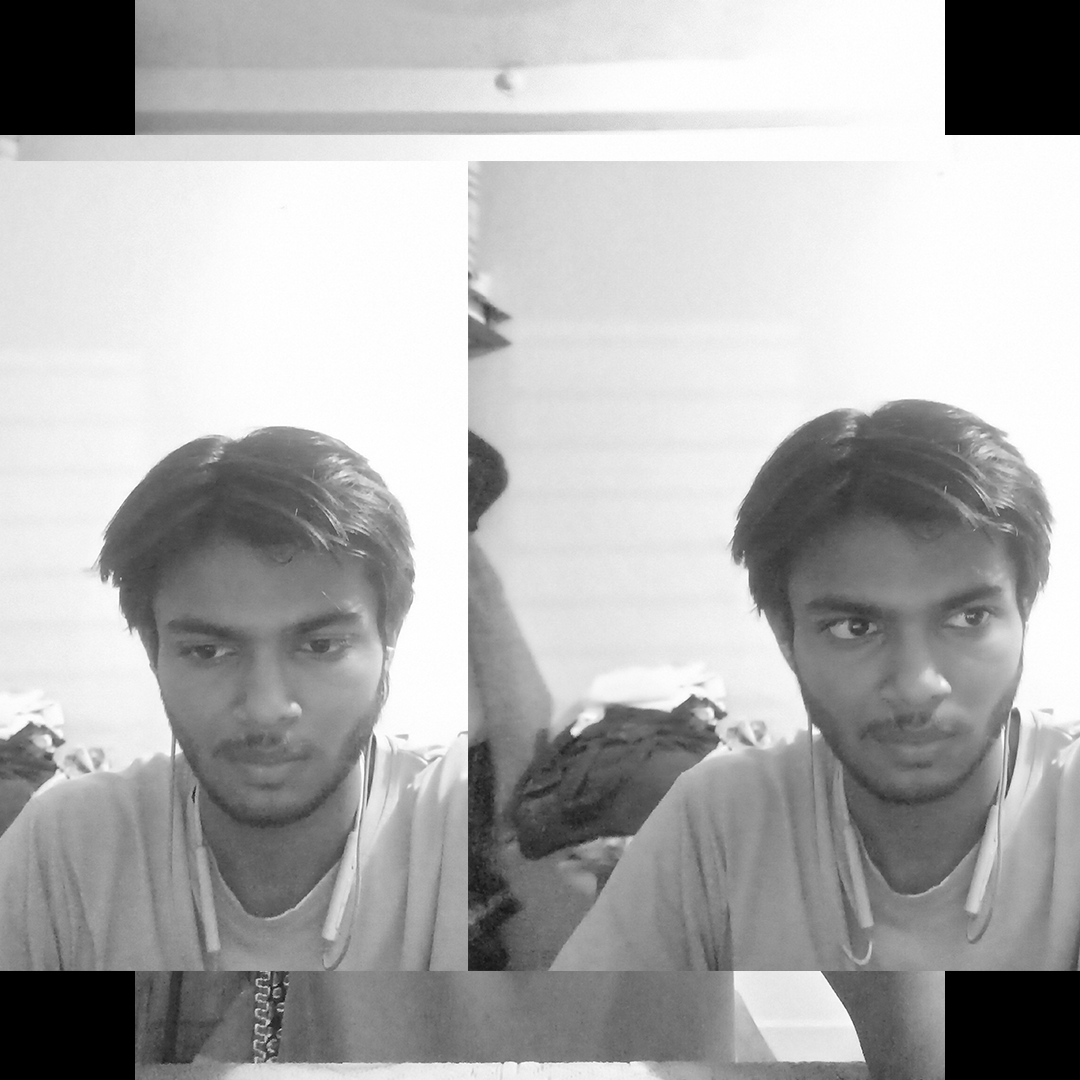Focused: (631, 356, 1070, 978), (49, 372, 475, 959)
